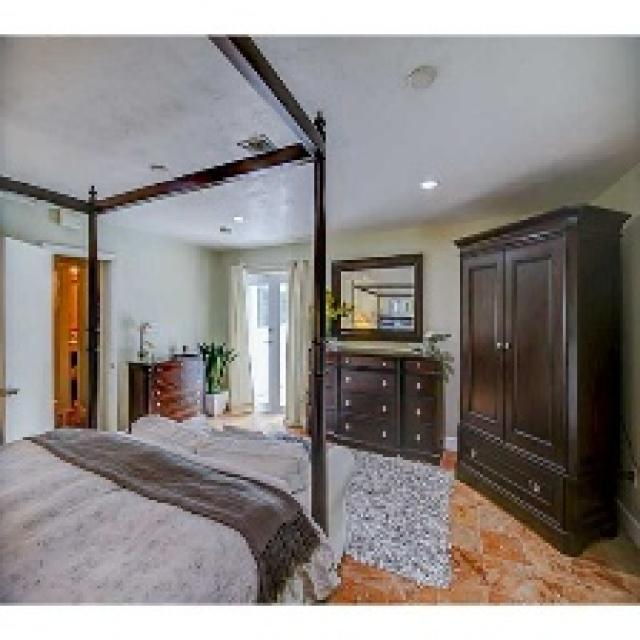Bed: (0, 423, 340, 603)
